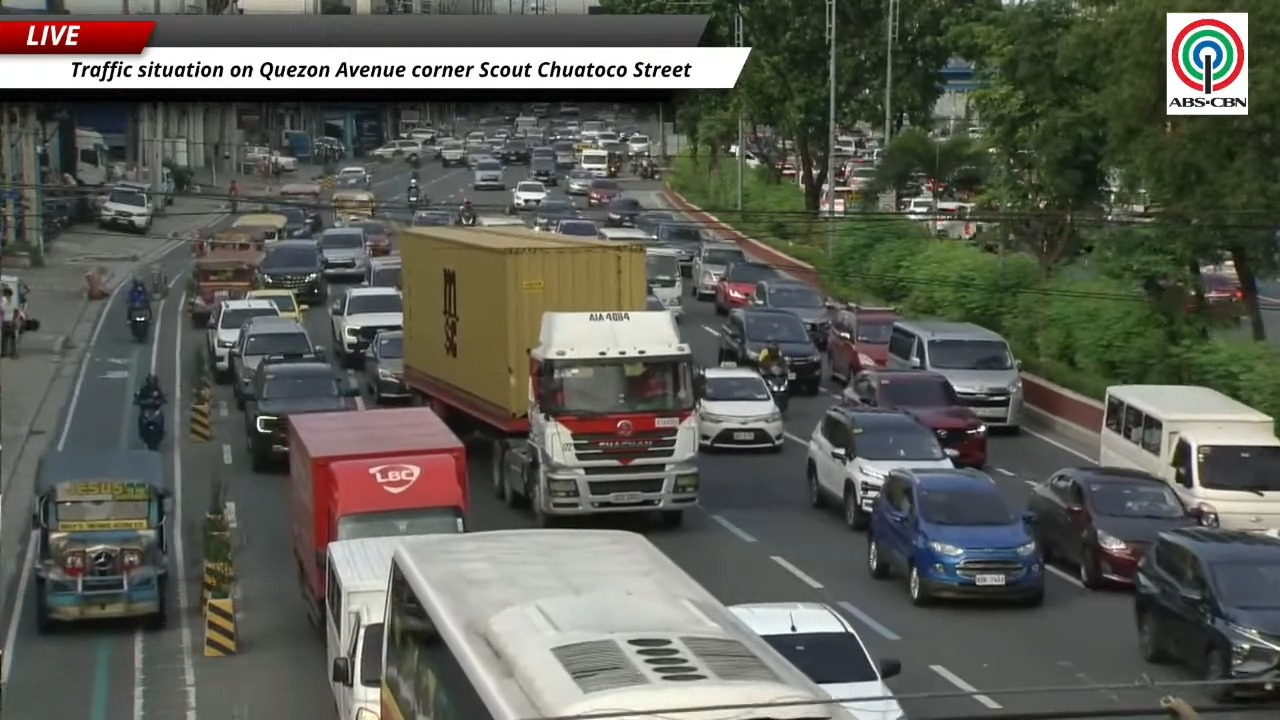bus: (381, 529, 850, 719)
car: (1134, 528, 1279, 702), (867, 468, 1044, 605), (1027, 467, 1202, 588), (729, 603, 904, 719), (806, 404, 953, 529), (843, 369, 987, 467), (243, 354, 357, 470), (718, 309, 821, 394), (230, 316, 322, 408), (696, 366, 785, 451), (206, 299, 279, 381), (826, 303, 899, 383), (330, 285, 402, 366), (751, 277, 828, 350), (259, 239, 327, 304), (714, 261, 779, 314), (363, 331, 409, 404), (691, 242, 746, 300), (651, 221, 702, 277), (646, 247, 683, 320), (317, 227, 368, 279), (98, 187, 153, 233), (245, 289, 307, 320), (347, 220, 392, 256), (600, 227, 670, 249), (534, 198, 581, 230), (272, 206, 312, 238), (364, 255, 401, 288), (370, 139, 421, 162), (605, 196, 644, 226), (635, 210, 678, 236), (472, 158, 505, 190), (512, 181, 547, 209), (586, 178, 621, 206), (554, 218, 599, 238), (466, 144, 500, 169), (529, 156, 557, 185), (499, 139, 530, 164), (336, 166, 371, 188), (439, 140, 466, 167), (565, 169, 593, 195), (410, 210, 454, 226), (476, 214, 526, 226), (553, 142, 576, 168), (271, 152, 297, 172), (334, 174, 368, 189), (626, 134, 650, 155), (405, 127, 437, 142), (595, 130, 618, 147), (646, 294, 668, 311), (466, 130, 485, 144), (560, 103, 580, 116)
motorcycle: (760, 364, 789, 412), (138, 402, 164, 450), (129, 308, 149, 342), (149, 265, 168, 297), (407, 187, 421, 208), (459, 210, 476, 226)
truck: (398, 227, 698, 527), (287, 407, 468, 628), (325, 537, 400, 719), (74, 128, 109, 186)
